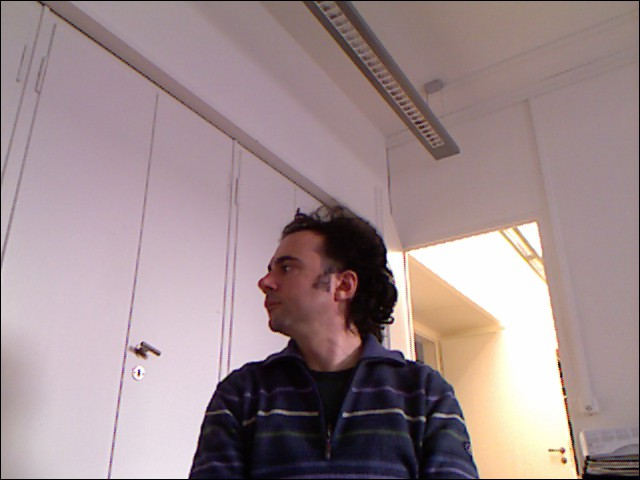deflection: (200, 216, 460, 468)
